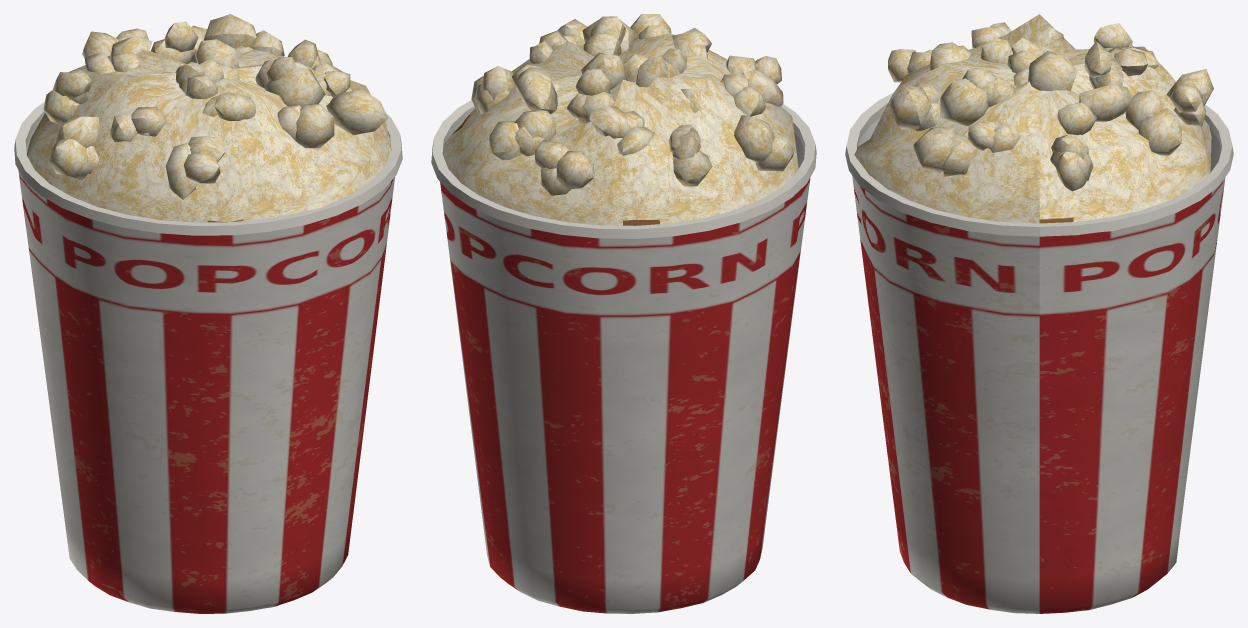
Rendered from popcorn_bucket.glb.
3 renders of one model, left to right at view 1: azimuth 30°, elevation 25°; view 2: azimuth 150°, elevation 25°; view 3: azimuth 270°, elevation 25°, orthographic.
Parts seen in each view (by area): view 1: bucket, popcorn; view 2: bucket, popcorn; view 3: bucket, popcorn.
Boxes of the visible parts, x1=… form: bucket: x1=14, y1=102, x2=402, y2=613; popcorn: x1=26, y1=14, x2=390, y2=222; bucket: x1=431, y1=100, x2=816, y2=613; popcorn: x1=443, y1=14, x2=798, y2=225; bucket: x1=845, y1=93, x2=1233, y2=613; popcorn: x1=854, y1=14, x2=1213, y2=232.
Bounding box in the file's own units: 0.1847 × 0.2702 × 0.1847.
Materials: 2 (2 with a texture image).
